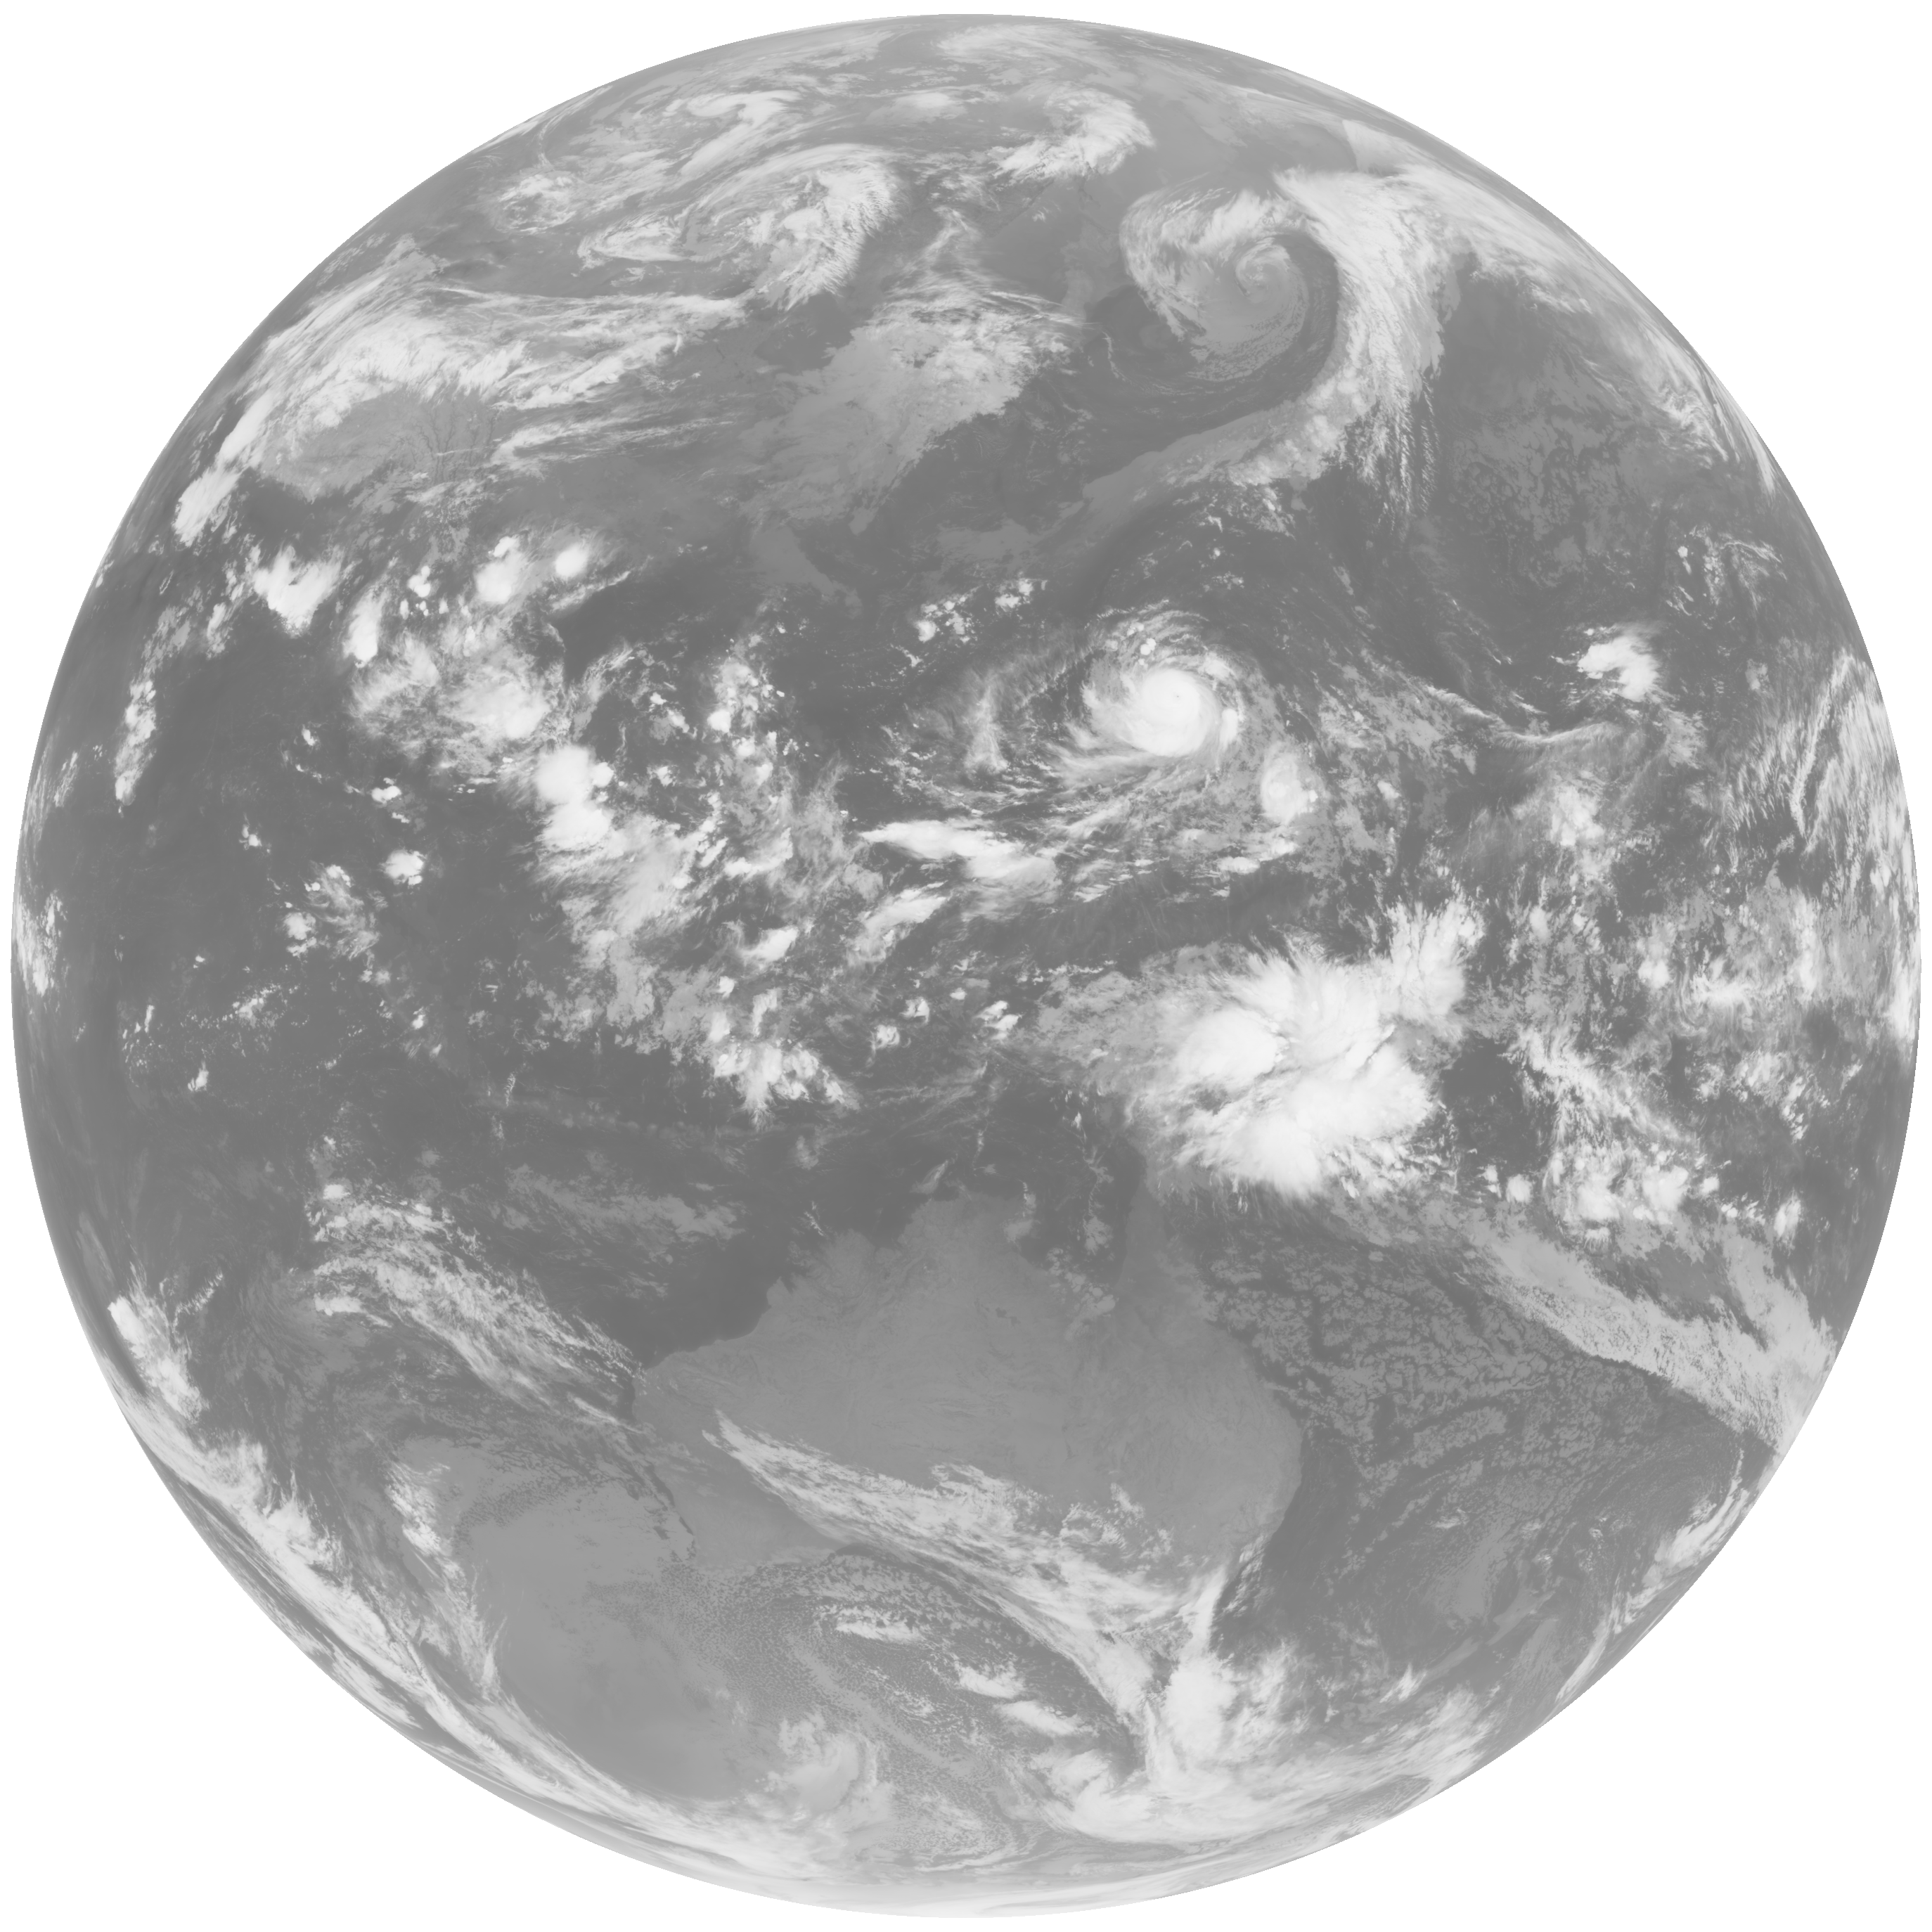typhoon: (879, 564, 1364, 968)
